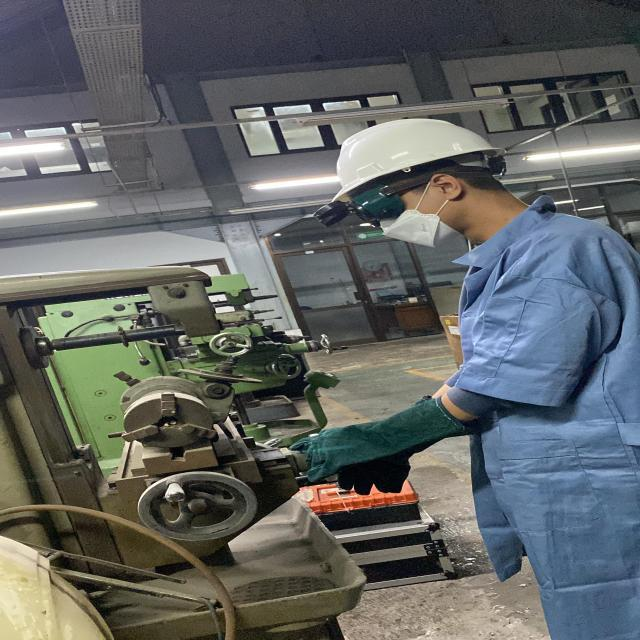glasses: (304, 176, 426, 232)
